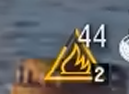2fire: (45, 48, 110, 86)
